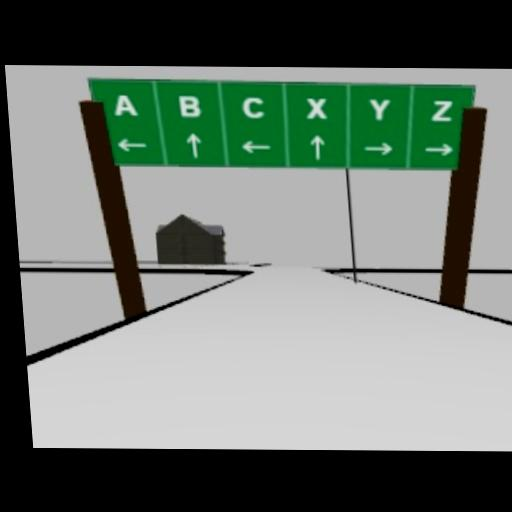A: (110, 91, 137, 114)
B: (177, 94, 200, 117)
C: (241, 95, 264, 116)
Left: (116, 135, 147, 151), (240, 138, 272, 151)
Right: (362, 139, 393, 154), (423, 142, 452, 155)
Straight: (184, 131, 203, 156), (308, 134, 325, 159)
X: (304, 96, 327, 117)
Y: (368, 96, 391, 119)
Z: (431, 99, 453, 120)
